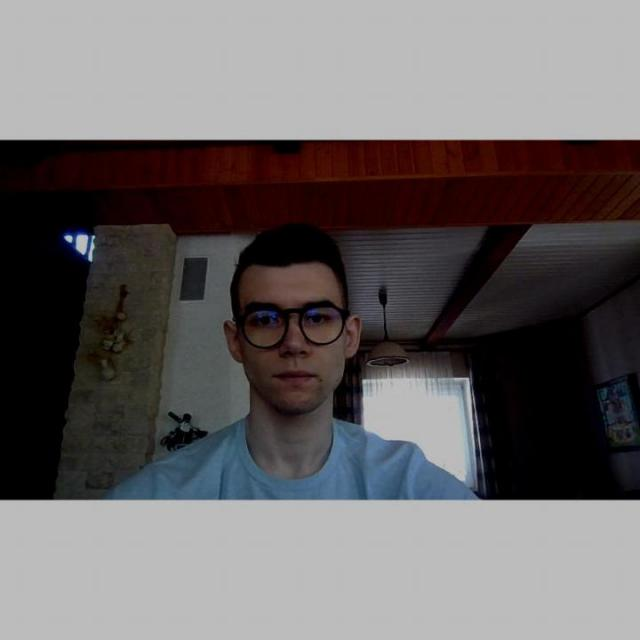live: (239, 267, 345, 411)
